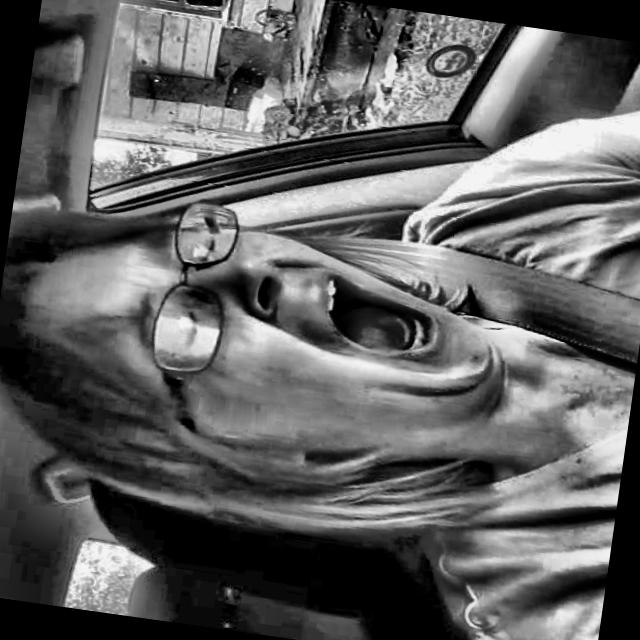closed_eyes: (161, 290, 227, 371), (176, 217, 245, 273)
open_mouth: (295, 257, 454, 382)
